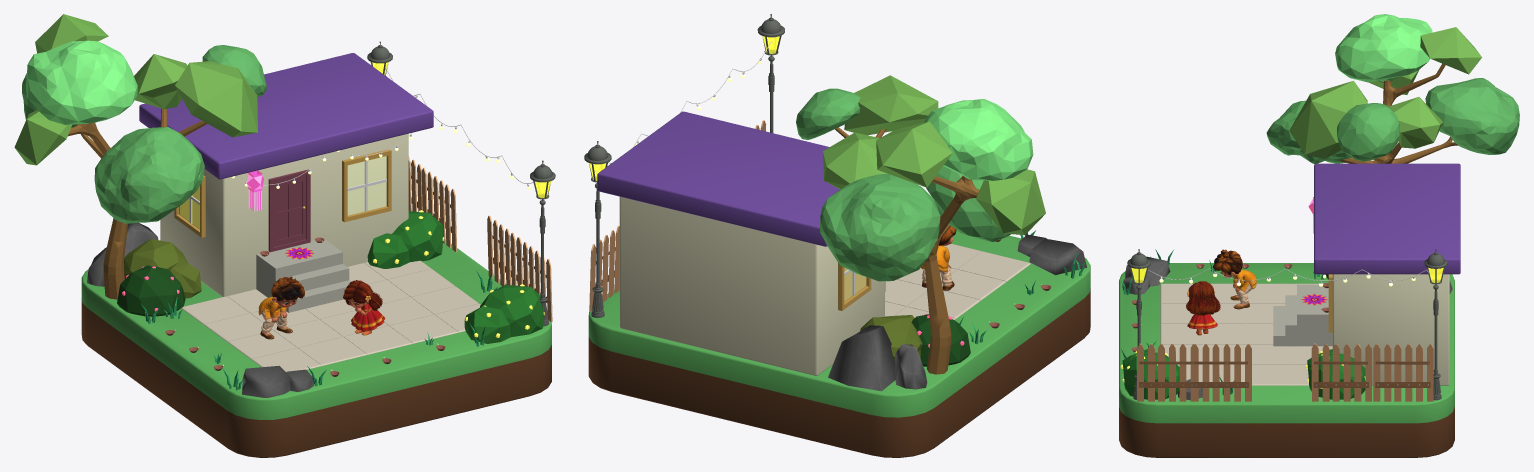
The picture shows the model from 3 angles, left to right: view 1: azimuth 30°, elevation 25°; view 2: azimuth 150°, elevation 25°; view 3: azimuth 270°, elevation 25°; orthographic projection. The views are drawn at different scales.
Parts seen in each view (by area): view 1: Base_Platform, House_Walls, House_Roof, Tiles, Object_4, Object_2, Object_3, Fence.001, Stairs, Object_24.002, Door, Object_24.001 (+11 smaller); view 2: Base_Platform, House_Walls, House_Roof, Object_2, Object_4, Object_3, Tiles, Object_5, Object_5.002, Lamps, Fence.001, Object_3.002 (+5 smaller); view 3: Base_Platform, House_Roof, Fence.001, House_Walls, Object_2, Tiles, Object_4, Object_3, Stairs, Lamps, Object_5, Mesh_0.002 (+4 smaller).
Part boxes in pixels (bbox=[...]): Base_Platform: bbox=[81, 240, 551, 457]; House_Walls: bbox=[160, 133, 408, 296]; House_Roof: bbox=[139, 53, 433, 179]; Tiles: bbox=[181, 260, 480, 371]; Object_4: bbox=[14, 14, 257, 165]; Object_2: bbox=[22, 45, 266, 223]; Object_3: bbox=[26, 40, 137, 124]; Fence.001: bbox=[408, 156, 552, 322]; Stairs: bbox=[256, 238, 350, 312]; Object_24.002: bbox=[464, 284, 544, 343]; Door: bbox=[268, 169, 310, 252]; Object_24.001: bbox=[367, 211, 443, 268]; Base_Platform: bbox=[588, 230, 1090, 457]; House_Walls: bbox=[619, 196, 884, 375]; House_Roof: bbox=[597, 111, 839, 246]; Object_2: bbox=[796, 88, 1011, 281]; Object_4: bbox=[823, 75, 1045, 235]; Object_3: bbox=[924, 99, 1033, 180]; Tiles: bbox=[885, 243, 1030, 319]; Object_5: bbox=[835, 127, 979, 374]; Object_5.002: bbox=[828, 325, 895, 391]; Lamps: bbox=[584, 14, 784, 317]; Fence.001: bbox=[589, 120, 766, 311]; Object_3.002: bbox=[1029, 239, 1086, 275]; Base_Platform: bbox=[1119, 263, 1454, 457]; House_Roof: bbox=[1314, 163, 1460, 274]; Fence.001: bbox=[1137, 343, 1433, 401]; House_Walls: bbox=[1332, 274, 1449, 385]; Object_2: bbox=[1266, 78, 1519, 163]; Tiles: bbox=[1160, 283, 1332, 385]; Object_4: bbox=[1289, 27, 1481, 158]; Object_3: bbox=[1335, 14, 1432, 82]; Stairs: bbox=[1273, 284, 1332, 346]; Lamps: bbox=[1127, 249, 1447, 400]; Object_5: bbox=[1340, 63, 1458, 163]; Mesh_0.002: bbox=[1186, 281, 1220, 335].
Bounding box in the file's own units: 0.1741 × 0.133 × 0.1671.
39 materials, 8 textured.
